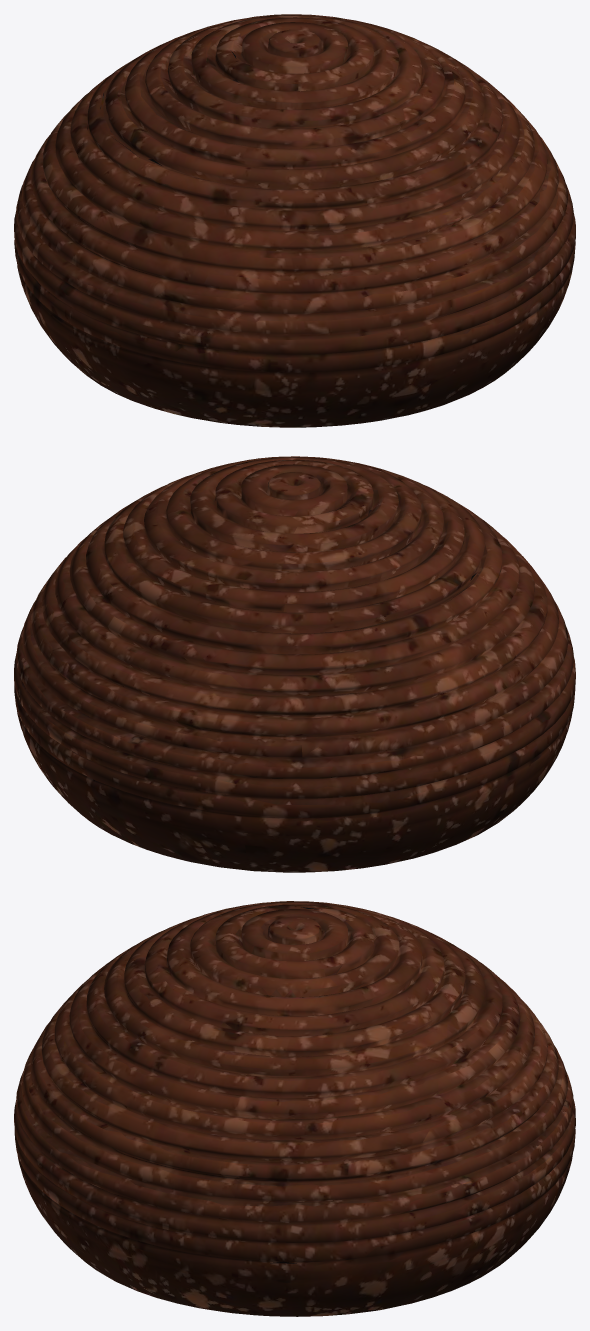
The model's file is wholewheat--choco-cocoa.glb.
3 renders of one model, top to bottom at view 1: azimuth 30°, elevation 25°; view 2: azimuth 150°, elevation 25°; view 3: azimuth 270°, elevation 25°, orthographic.
Visible parts, largest first — view 1: wholewheat_choco-cocoa; view 2: wholewheat_choco-cocoa; view 3: wholewheat_choco-cocoa.
Boxes of the visible parts, left/top/right/bottom form: wholewheat_choco-cocoa: left=14, top=14, right=575, bottom=427; wholewheat_choco-cocoa: left=14, top=456, right=575, bottom=872; wholewheat_choco-cocoa: left=14, top=901, right=575, bottom=1316.
Bounding box in the file's own units: 0.9999 × 0.5691 × 0.998.
1 material, 1 textured.
